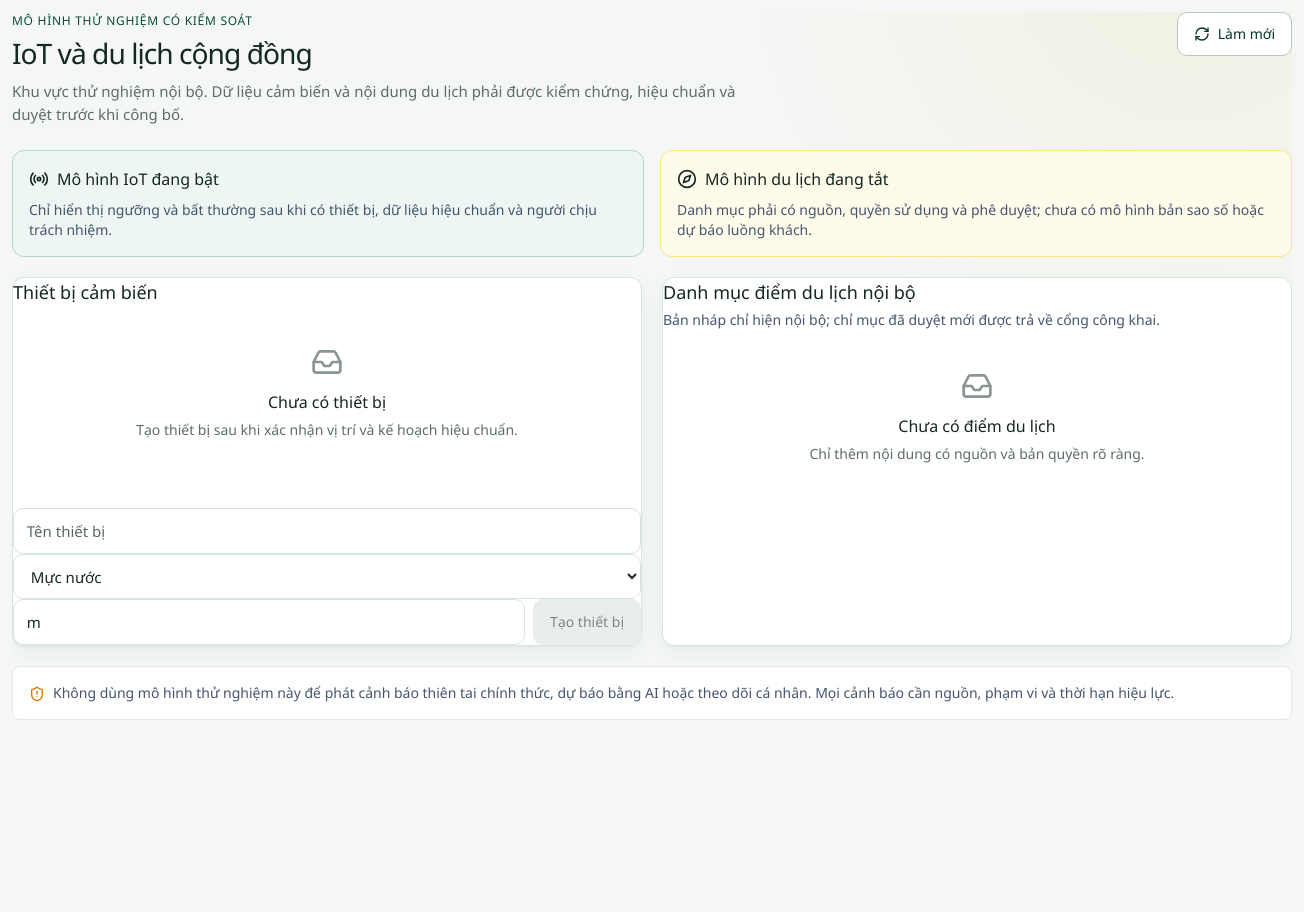
Test: PilotWorkbench › shows a safe error when device creation is rejected
Expected: the heading "Thiết bị cảm biến" is shown, [13, 280, 158, 304]
In the field labelled "Tên thiết bị": [327, 531] box [13, 508, 641, 554], type "Cảm biến mưa"
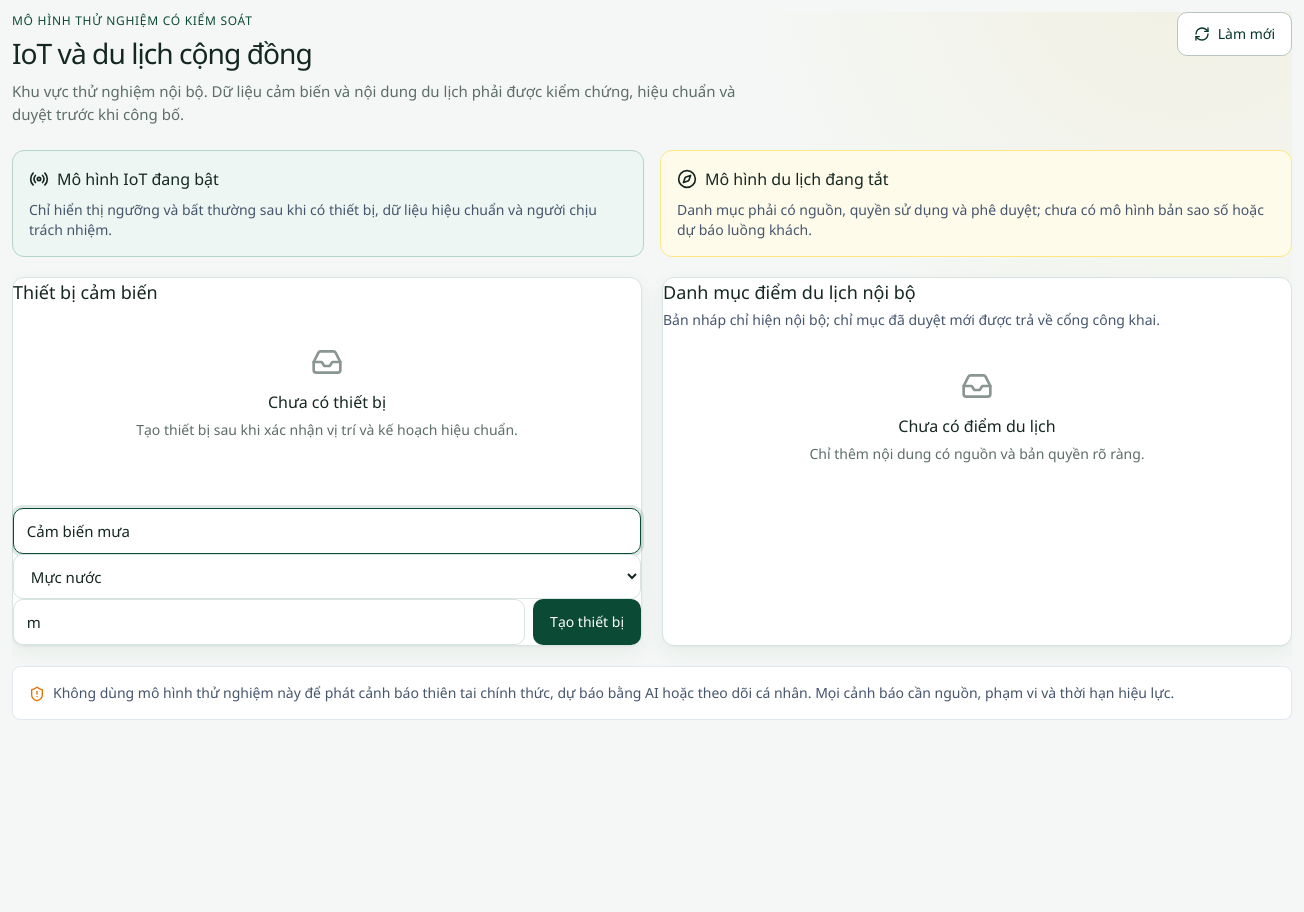
Click the button "Tạo thiết bị": [587, 622] box [533, 599, 641, 645]
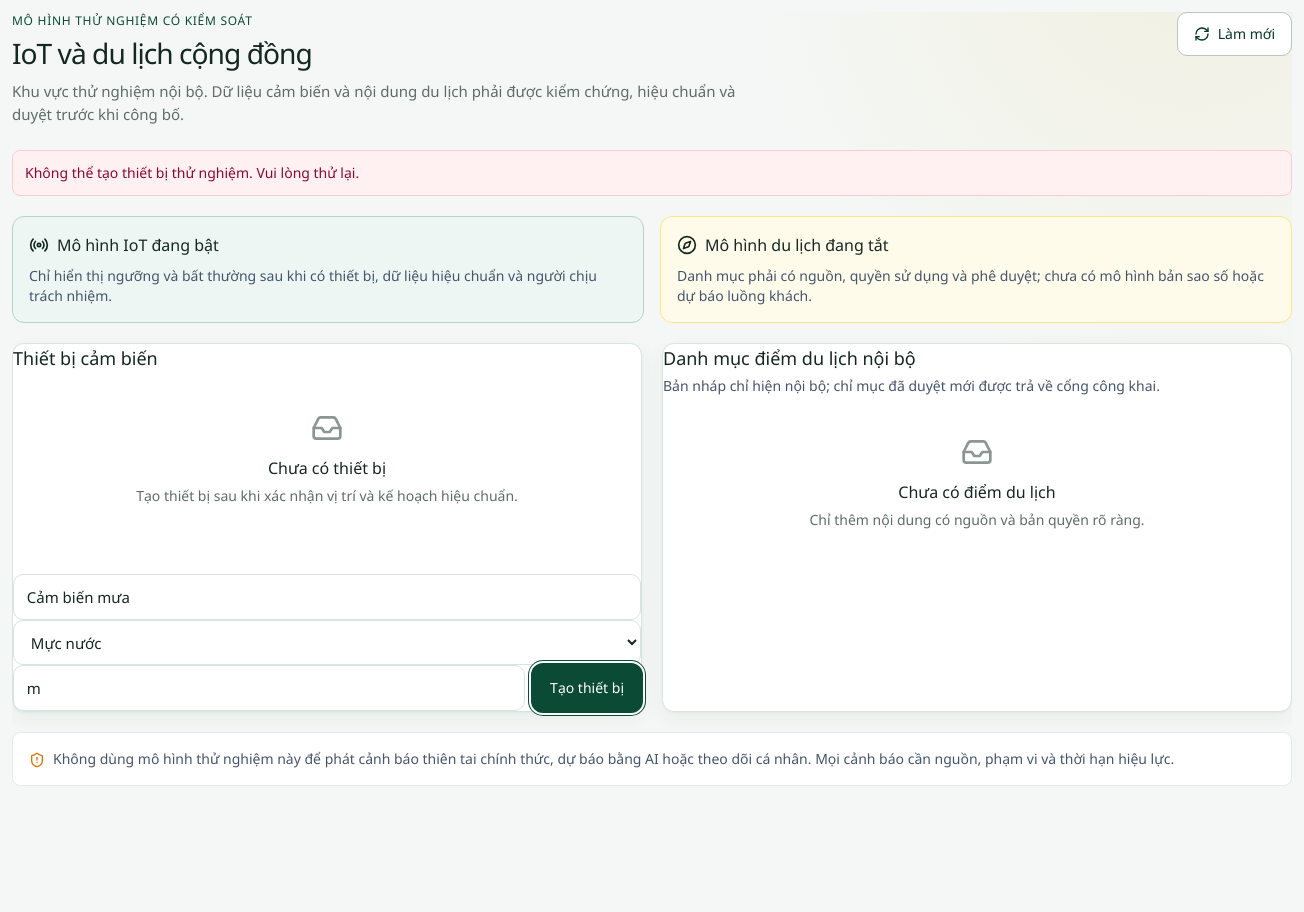
Expected: the message reads "Không thể tạo thiết bị thử nghiệm. Vui lòng thử lại.", [25, 163, 359, 182]
